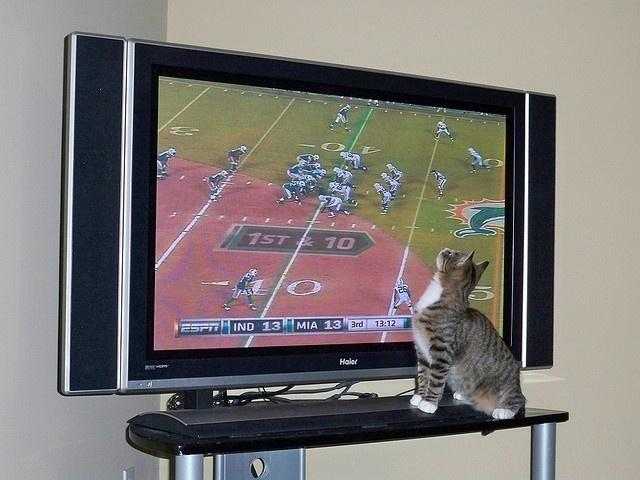AIO PC-Monitor-TV: (53, 29, 558, 438)
